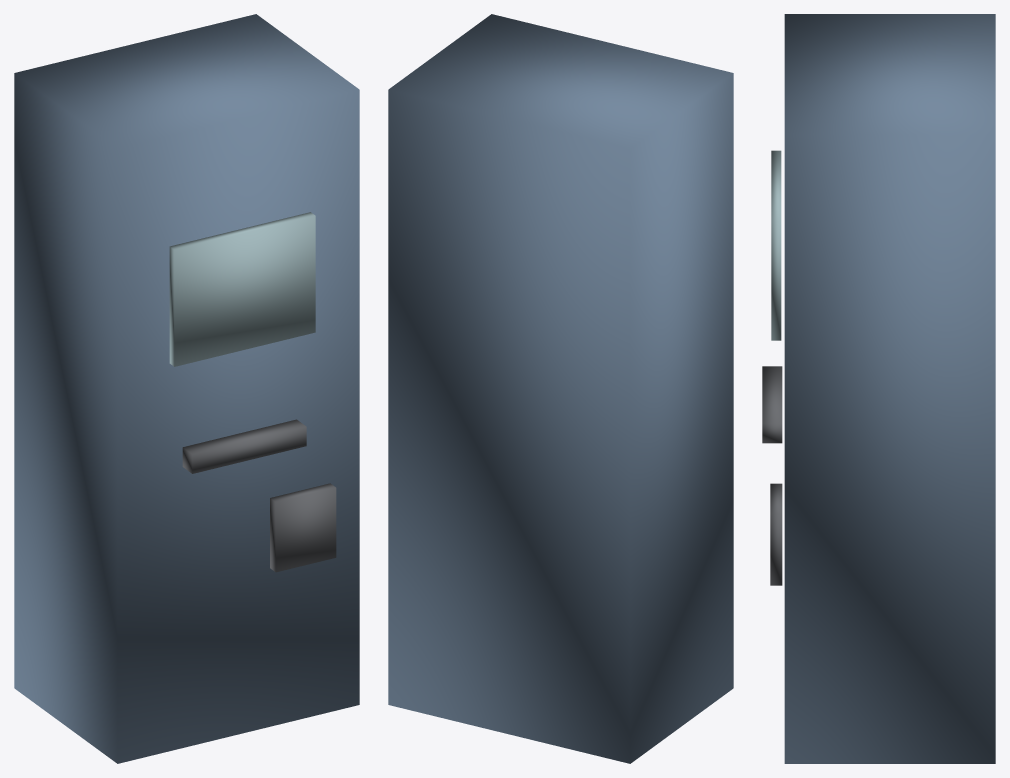
Rendered from ticket_vending_machine__compact.glb.
3 views of the same model, side by side, from view 1: azimuth 30°, elevation 25°; view 2: azimuth 150°, elevation 25°; view 3: azimuth 270°, elevation 25° (orthographic). The views are drawn at different scales.
Parts seen in each view (by area): view 1: world; view 2: world; view 3: world.
Part boxes in pixels (<box>): world: <box>14,14,359,763</box>; world: <box>388,14,733,763</box>; world: <box>762,14,995,763</box>.
Bounding box in the file's own units: 0.6048 × 1.47 × 0.4945.
